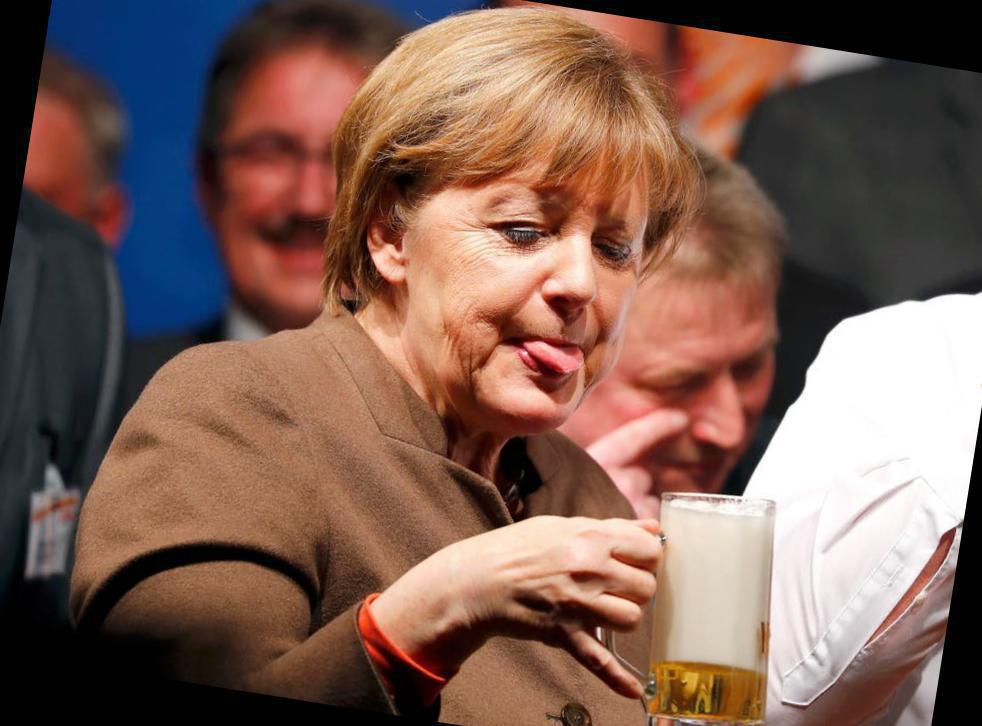Drunk: (449, 140, 639, 412)
